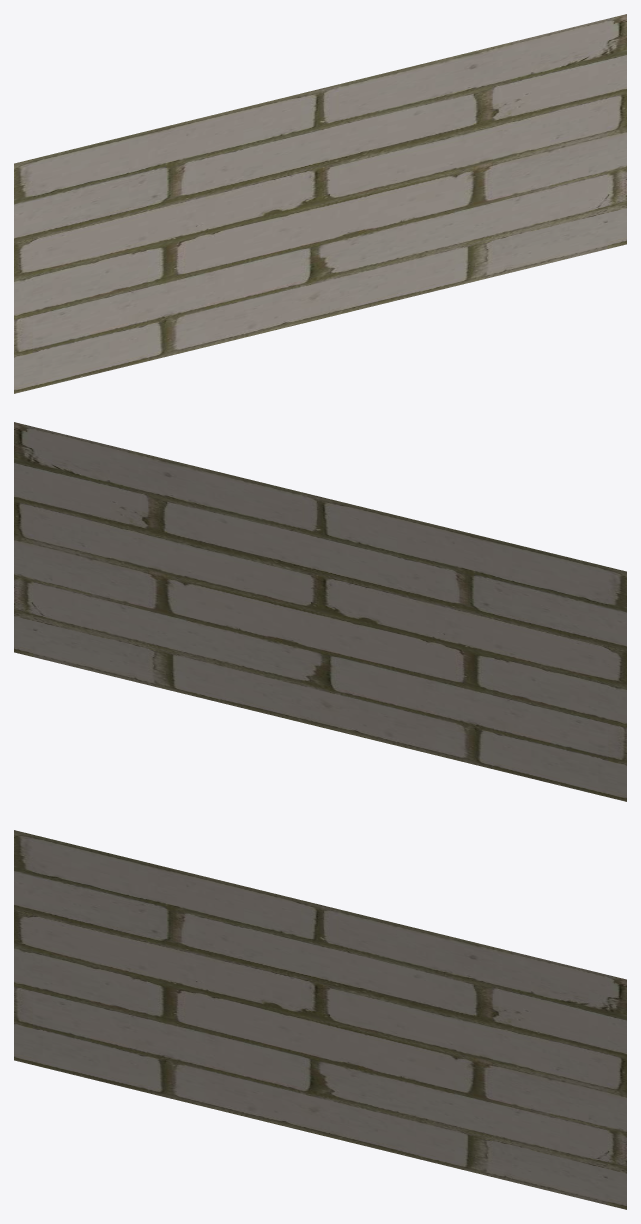
File: panel.obj
3 renders of one model, top to bottom at view 1: azimuth 30°, elevation 25°; view 2: azimuth 150°, elevation 25°; view 3: azimuth 330°, elevation 25°, orthographic.
Visible parts, largest first — view 1: pPlane1; view 2: pPlane1; view 3: pPlane1.
Part boxes in pixels (bbox=[...]): pPlane1: bbox=[14, 14, 626, 393]; pPlane1: bbox=[14, 422, 626, 801]; pPlane1: bbox=[14, 830, 626, 1209].
Size of the model in its own units: 25.85 by 9.28 by 0.
1 material, 1 textured.
